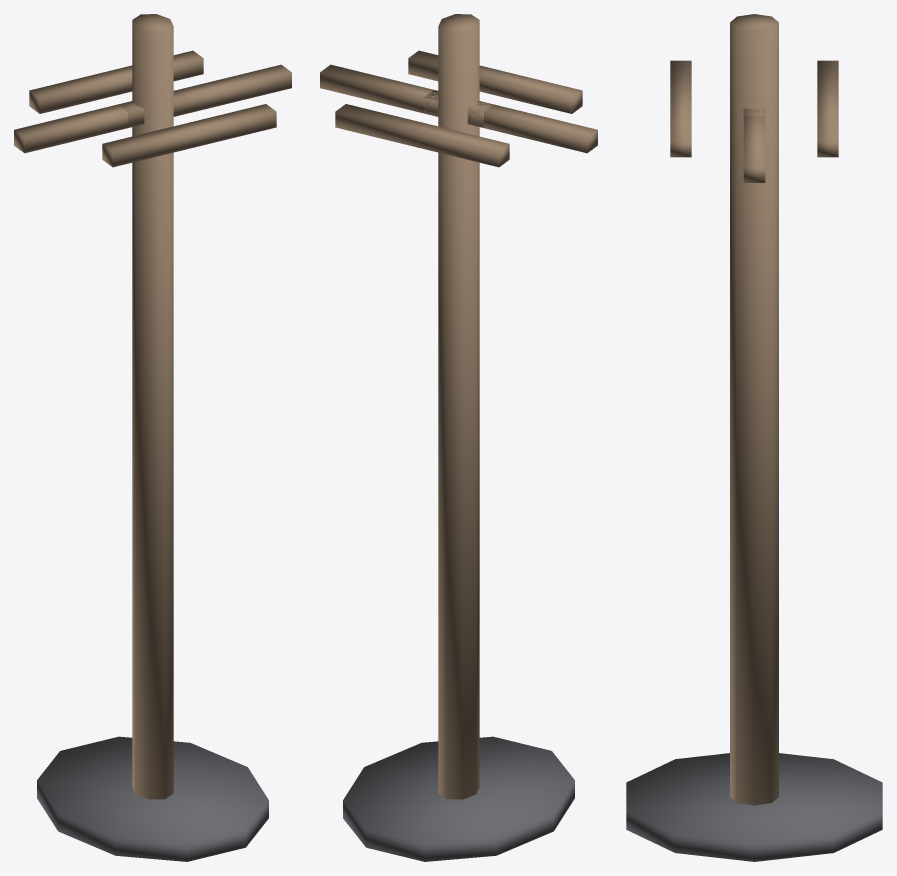
File: coat_rack__deep.glb
3 views of the same model, side by side, from view 1: azimuth 30°, elevation 25°; view 2: azimuth 150°, elevation 25°; view 3: azimuth 270°, elevation 25° (orthographic).
Visible parts, largest first — view 1: world; view 2: world; view 3: world.
Part boxes in pixels (bbox=[...]): world: bbox=[14, 14, 291, 861]; world: bbox=[320, 14, 597, 861]; world: bbox=[626, 14, 882, 861].
Size of the model in its own units: 0.62 by 1.74 by 0.5105.
